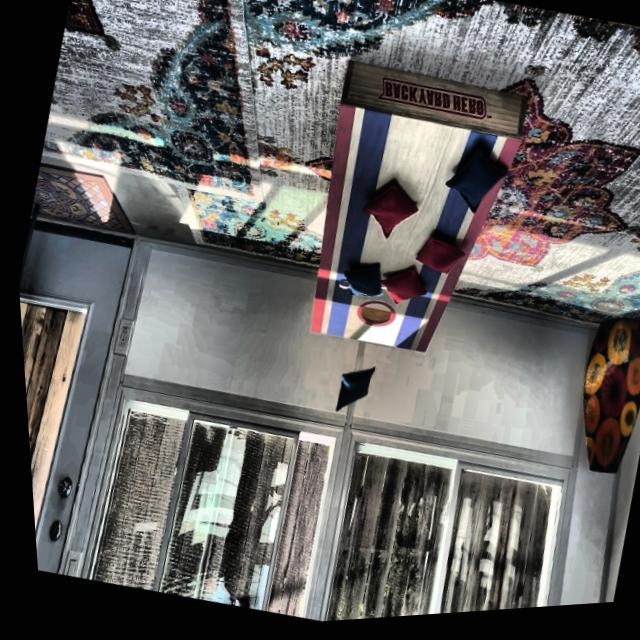blue-bean-bag: (433, 143, 513, 229), (327, 365, 371, 423), (334, 260, 384, 308)
board: (289, 105, 489, 367)
hole: (347, 300, 394, 339)
red-bean-bag: (352, 180, 422, 251), (371, 264, 428, 316), (407, 235, 465, 286)
